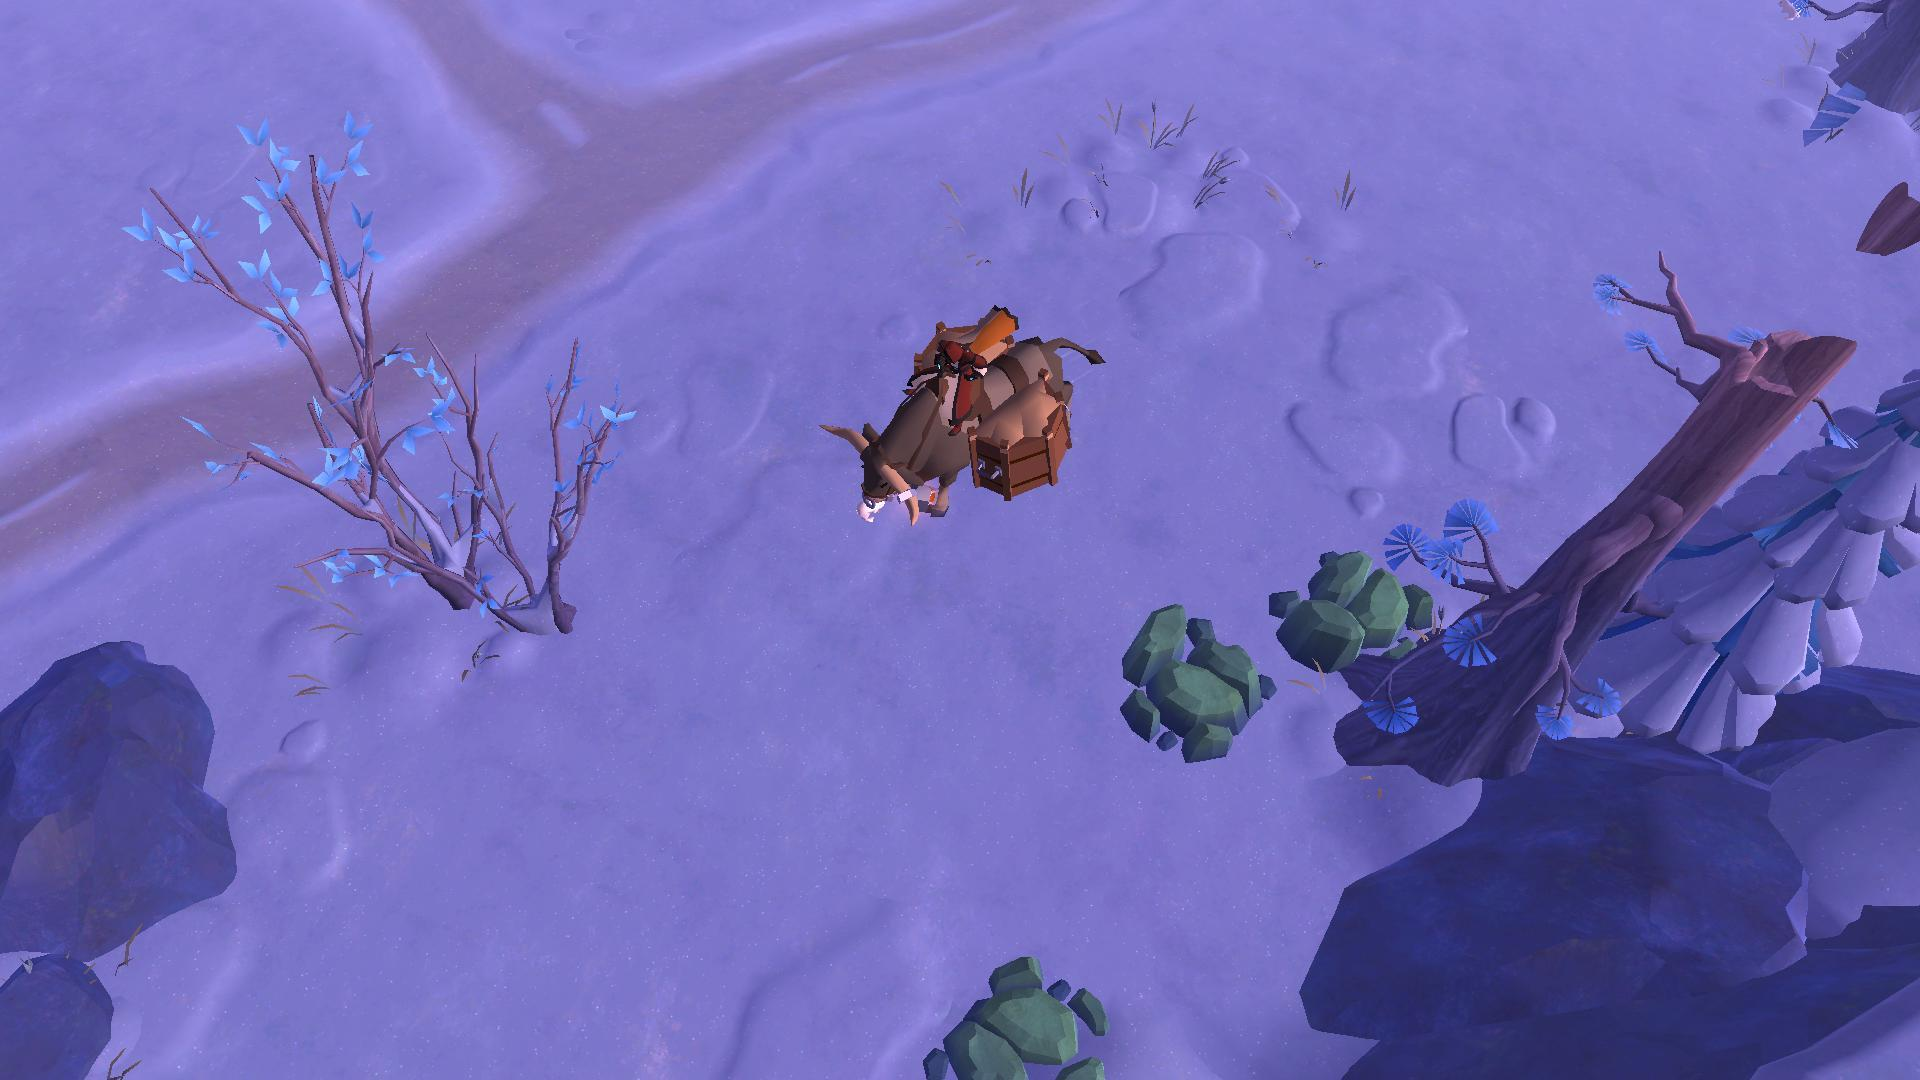rock_t3: (1106, 596, 1269, 762), (920, 955, 1109, 1080), (1266, 546, 1435, 678)
